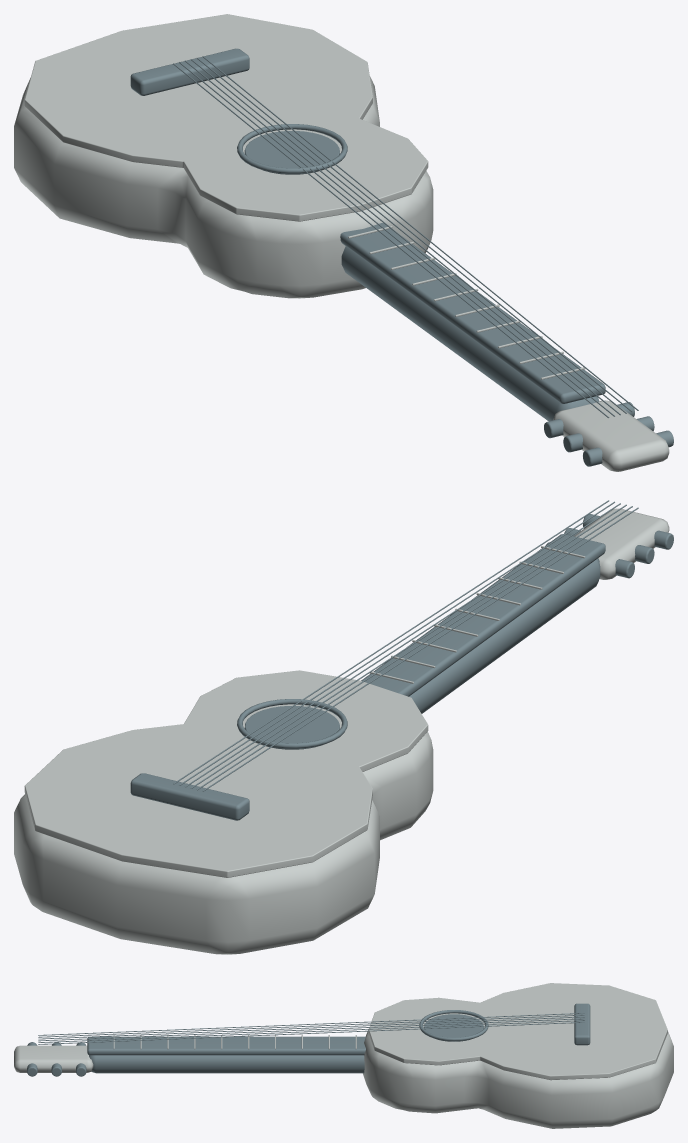
The model's file is guitar.glb.
3 renders of one model, top to bottom at view 1: azimuth 30°, elevation 25°; view 2: azimuth 150°, elevation 25°; view 3: azimuth 270°, elevation 25°, orthographic. The views are drawn at different scales.
Parts seen in each view (by area): view 1: soundboard, body, fingerboard, neck, headstock, bridge, soundhole, rosette, string_5, string_0, string_1, string_4 (+2 smaller); view 2: soundboard, body, fingerboard, neck, headstock, bridge, soundhole, rosette, string_4, string_5, string_0, string_3 (+2 smaller); view 3: soundboard, body, fingerboard, neck, headstock, soundhole, string_2, string_4, string_1, string_3, string_5, string_0 (+2 smaller).
Part boxes in pixels (x1,y1,x2,y2): soundboard: (24, 14, 428, 221); body: (14, 76, 433, 298); fingerboard: (340, 223, 605, 403); neck: (341, 246, 599, 421); headstock: (553, 400, 669, 471); bridge: (130, 48, 249, 95); soundhole: (244, 131, 339, 174); rosette: (237, 124, 347, 173); string_5: (173, 63, 609, 418); string_0: (202, 56, 638, 410); string_1: (196, 57, 632, 412); string_4: (179, 62, 614, 416); soundboard: (24, 670, 428, 877); body: (14, 731, 433, 954); fingerboard: (361, 534, 605, 696); neck: (409, 558, 600, 713); headstock: (574, 508, 669, 579); bridge: (130, 773, 249, 820); soundhole: (244, 706, 339, 749); rosette: (237, 699, 347, 748); string_4: (196, 506, 632, 790); string_5: (202, 507, 638, 791); string_0: (173, 500, 609, 784); string_3: (190, 504, 626, 788); soundboard: (368, 983, 667, 1080); body: (363, 1028, 673, 1128); fingerboard: (87, 1036, 365, 1055); neck: (89, 1055, 364, 1073); headstock: (14, 1045, 93, 1072); soundhole: (424, 1014, 483, 1041); string_2: (38, 1018, 584, 1041); string_4: (38, 1014, 584, 1037); string_1: (38, 1020, 584, 1042); string_3: (38, 1016, 584, 1039); string_5: (38, 1013, 584, 1035); string_0: (38, 1022, 584, 1044).
Size of the model in its own units: 0.38 by 0.1232 by 1.08.
